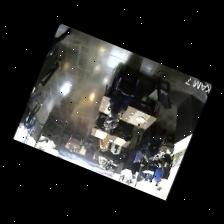person: (18, 92, 40, 126), (46, 27, 71, 55), (23, 101, 42, 128), (144, 139, 162, 162), (130, 151, 142, 177), (103, 113, 118, 132), (154, 167, 163, 185), (161, 153, 171, 166), (99, 138, 108, 150), (111, 159, 120, 167), (104, 160, 111, 169)
